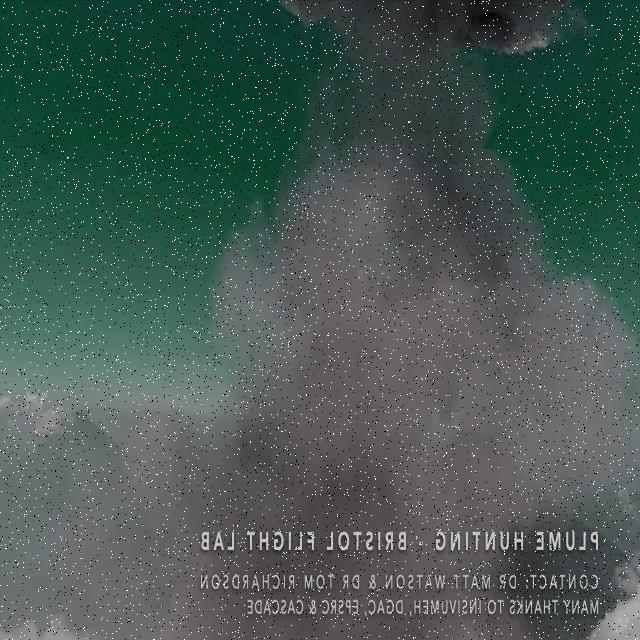Plume: (211, 134, 638, 525), (250, 0, 602, 63)
